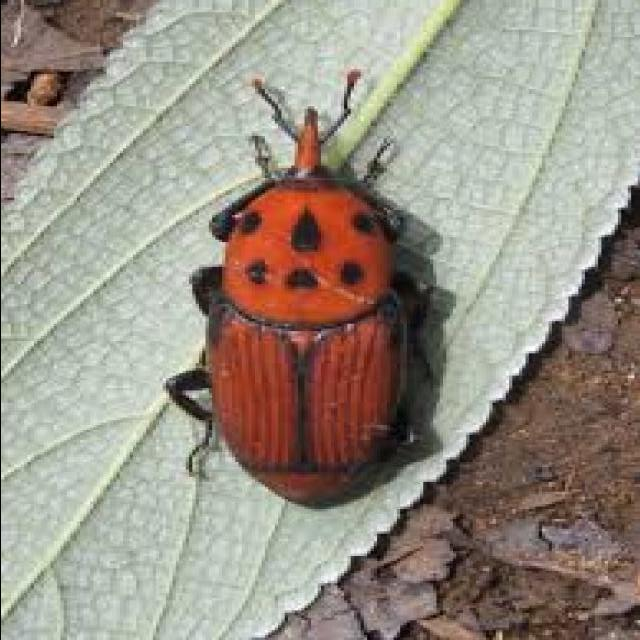Red-palm-weevil: (199, 82, 429, 527)
